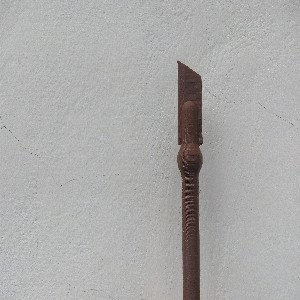cutter: (175, 59, 205, 300)
